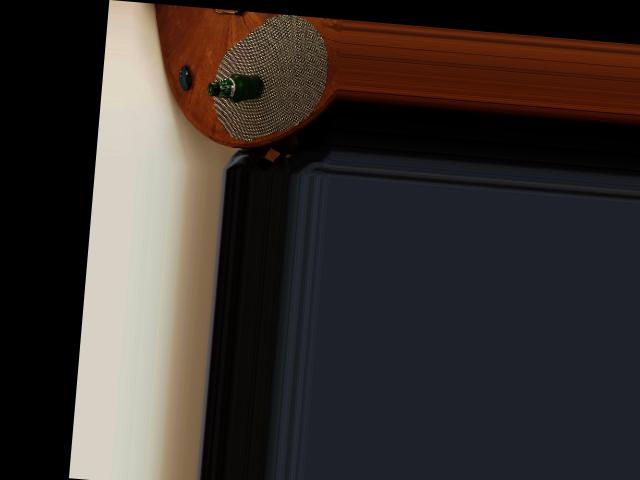beer: (206, 69, 264, 105)
